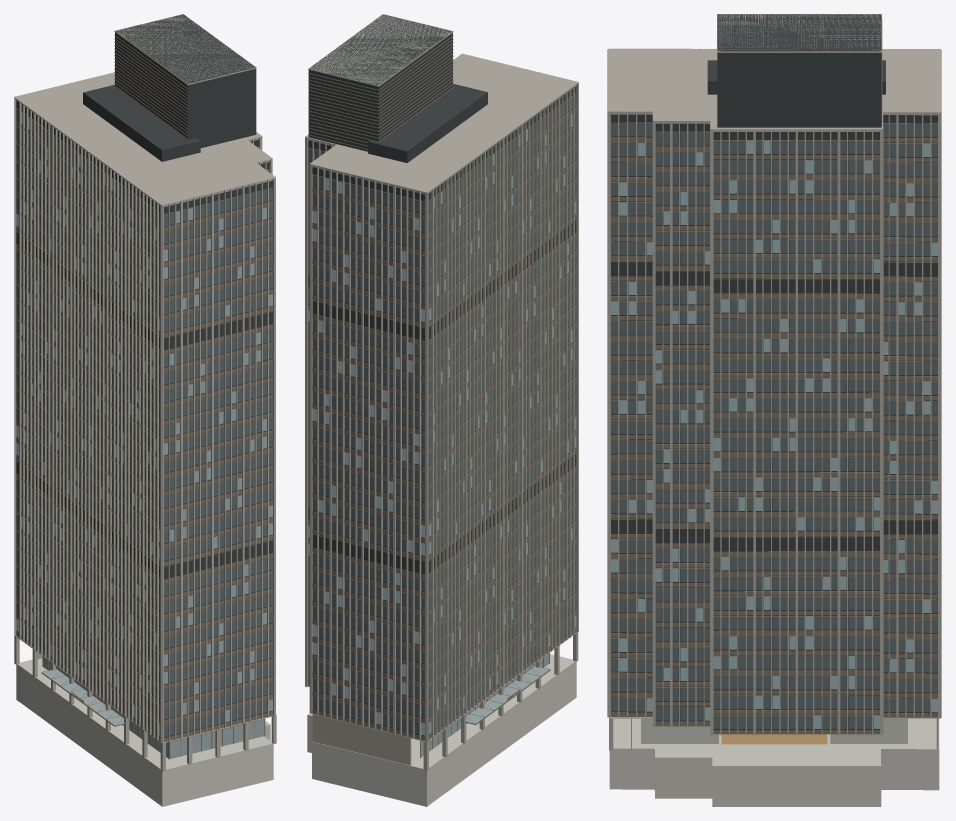
The model's file is wacker_125.glb.
3 renders of one model, left to right at view 1: azimuth 30°, elevation 25°; view 2: azimuth 150°, elevation 25°; view 3: azimuth 270°, elevation 25°, orthographic. The views are drawn at different scales.
Parts seen in each view (by area): view 1: Warm grey granite vertical ribs and piers, Dark bronze curtain vision glass, Mechanical louvers and dark paving joints, Bronze spandrel panels and window frames, Pale lobby stone and paving, Night occupied curtain vision glass, Clear arcade storefront and canopy glass; view 2: Warm grey granite vertical ribs and piers, Dark bronze curtain vision glass, Bronze spandrel panels and window frames, Mechanical louvers and dark paving joints, Pale lobby stone and paving, Night occupied curtain vision glass, Clear arcade storefront and canopy glass; view 3: Dark bronze curtain vision glass, Warm grey granite vertical ribs and piers, Mechanical louvers and dark paving joints, Bronze spandrel panels and window frames, Pale lobby stone and paving, Night occupied curtain vision glass, Night warm lobby wood panels.
Boxes of the visible parts, left/top/right/bottom form: Warm grey granite vertical ribs and piers: left=14, top=14, right=276, bottom=771; Dark bronze curtain vision glass: left=16, top=108, right=272, bottom=737; Mechanical louvers and dark paving joints: left=16, top=14, right=272, bottom=737; Bronze spandrel panels and window frames: left=16, top=35, right=272, bottom=759; Pale lobby stone and paving: left=16, top=636, right=273, bottom=806; Night occupied curtain vision glass: left=16, top=112, right=272, bottom=735; Clear arcade storefront and canopy glass: left=43, top=656, right=264, bottom=758; Warm grey granite vertical ribs and piers: left=305, top=14, right=578, bottom=771; Dark bronze curtain vision glass: left=308, top=94, right=576, bottom=734; Bronze spandrel panels and window frames: left=308, top=35, right=576, bottom=758; Mechanical louvers and dark paving joints: left=308, top=14, right=576, bottom=736; Pale lobby stone and paving: left=307, top=633, right=576, bottom=806; Night occupied curtain vision glass: left=308, top=115, right=576, bottom=735; Clear arcade storefront and canopy glass: left=420, top=653, right=549, bottom=757; Dark bronze curtain vision glass: left=611, top=123, right=937, bottom=728; Warm grey granite vertical ribs and piers: left=607, top=14, right=941, bottom=750; Mechanical louvers and dark paving joints: left=611, top=14, right=937, bottom=729; Bronze spandrel panels and window frames: left=611, top=19, right=937, bottom=749; Pale lobby stone and paving: left=609, top=717, right=939, bottom=806; Night occupied curtain vision glass: left=611, top=140, right=937, bottom=728; Night warm lobby wood panels: left=721, top=734, right=827, bottom=744.
Size of the model in its own units: 36.58 by 150 by 60.03.
